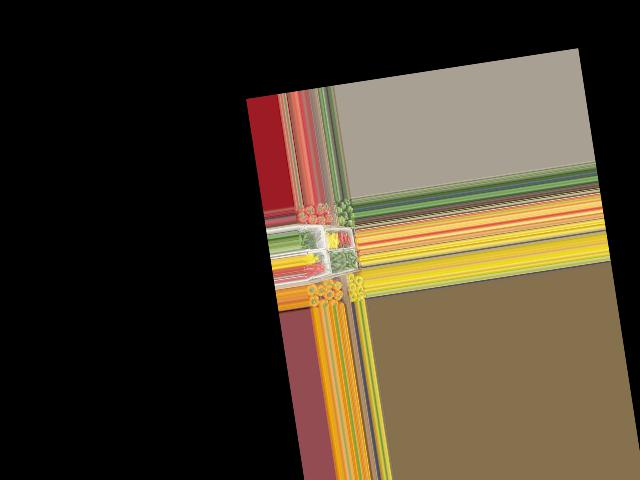bell_pepper: (334, 204, 346, 216)
